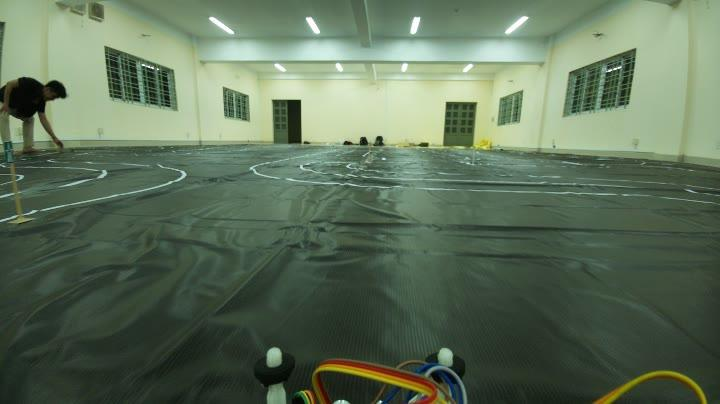highway_entry: (2, 142, 18, 164)
